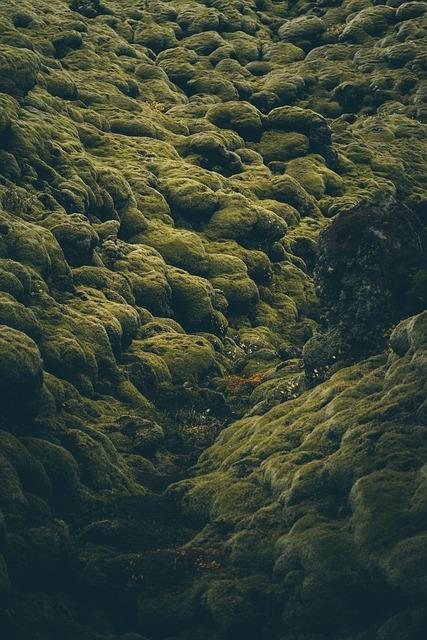Non_Gorille: (28, 50, 402, 506)
